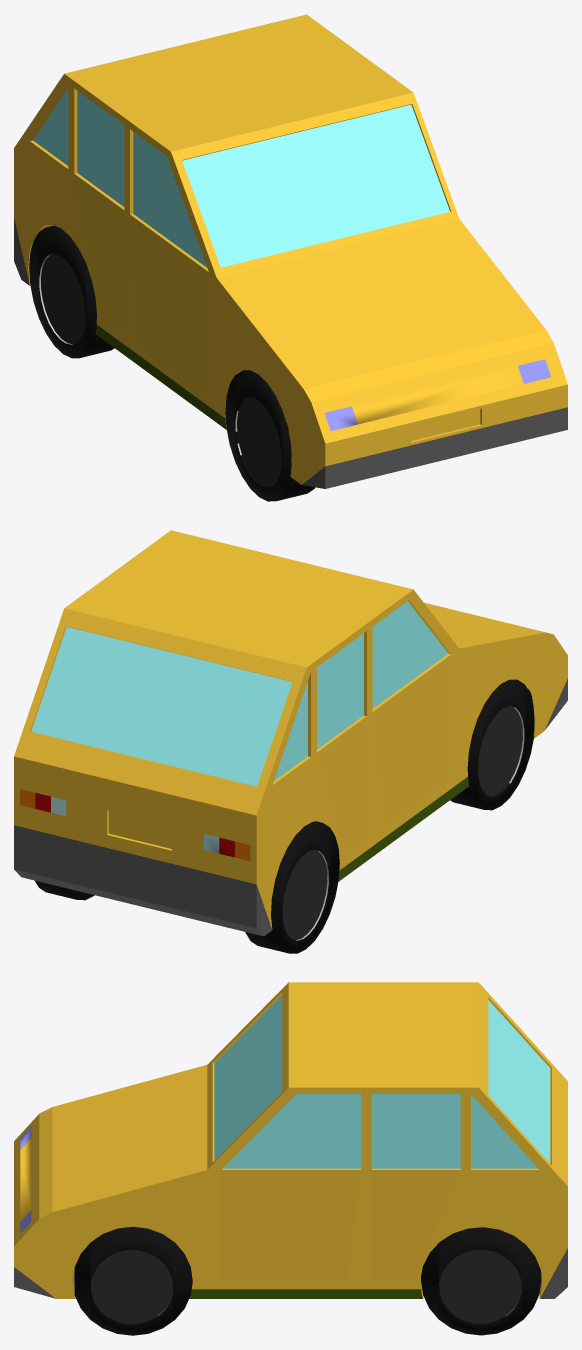
The model's file is lirkis_car.obj.
3 views of the same model, one above another, from view 1: azimuth 30°, elevation 25°; view 2: azimuth 150°, elevation 25°; view 3: azimuth 270°, elevation 25° (orthographic). The views are drawn at different scales.
Visible parts, largest first — view 1: lirkis_auto; view 2: lirkis_auto; view 3: lirkis_auto.
Part boxes in pixels (x1,y1,x2,y2): lirkis_auto: [14, 14, 567, 501]; lirkis_auto: [14, 530, 567, 953]; lirkis_auto: [14, 982, 567, 1335].
Bounding box in the file's own units: 2.4 × 2.65 × 5.33.
